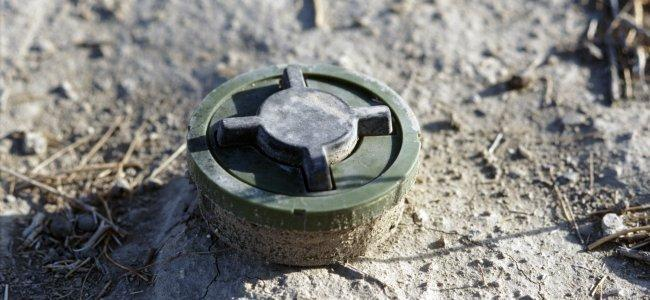pmn: (183, 60, 425, 269)
